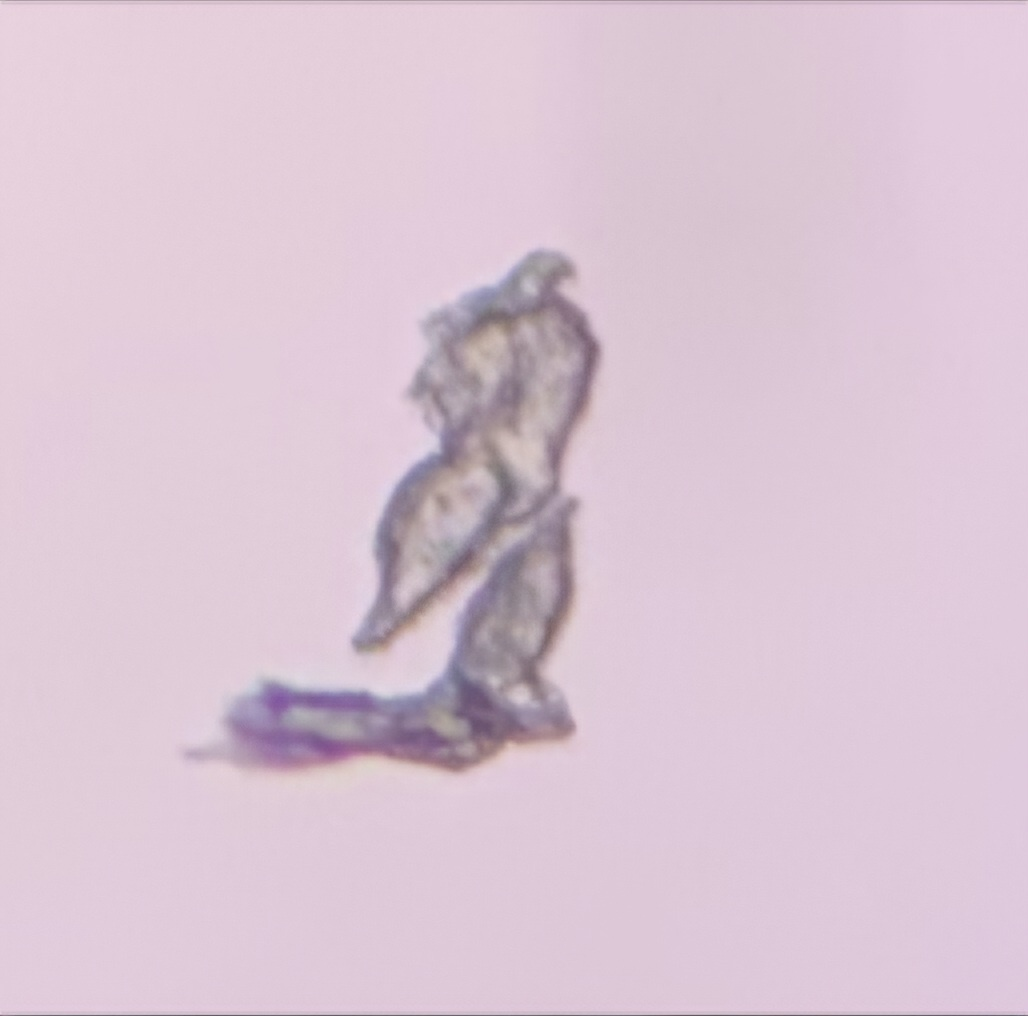microplastic: (180, 247, 604, 779)
